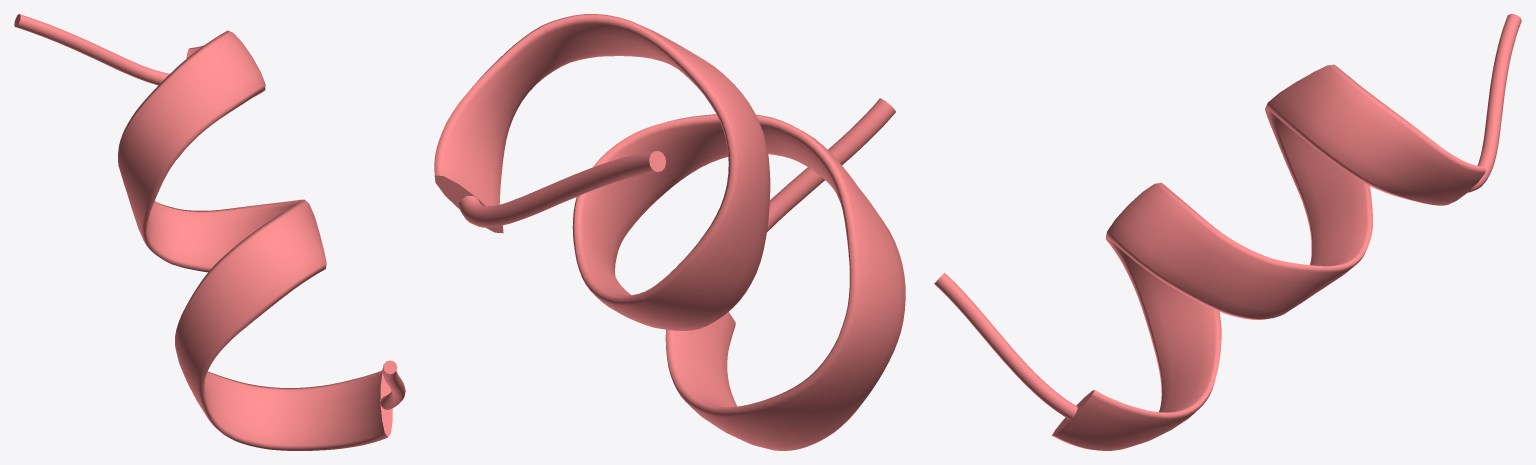
Rendered from 7rsa_alpha1.glb.
3 renders of one model, left to right at view 1: azimuth 30°, elevation 25°; view 2: azimuth 150°, elevation 25°; view 3: azimuth 270°, elevation 25°, orthographic. The views are drawn at different scales.
Parts seen in each view (by area): view 1: New_Node; view 2: New_Node; view 3: New_Node.
Boxes of the visible parts, bbox=[...] form: New_Node: bbox=[14, 14, 405, 450]; New_Node: bbox=[434, 14, 905, 450]; New_Node: bbox=[934, 14, 1521, 450].
Size of the model in its own units: 194529 by 348556 by 496506.
